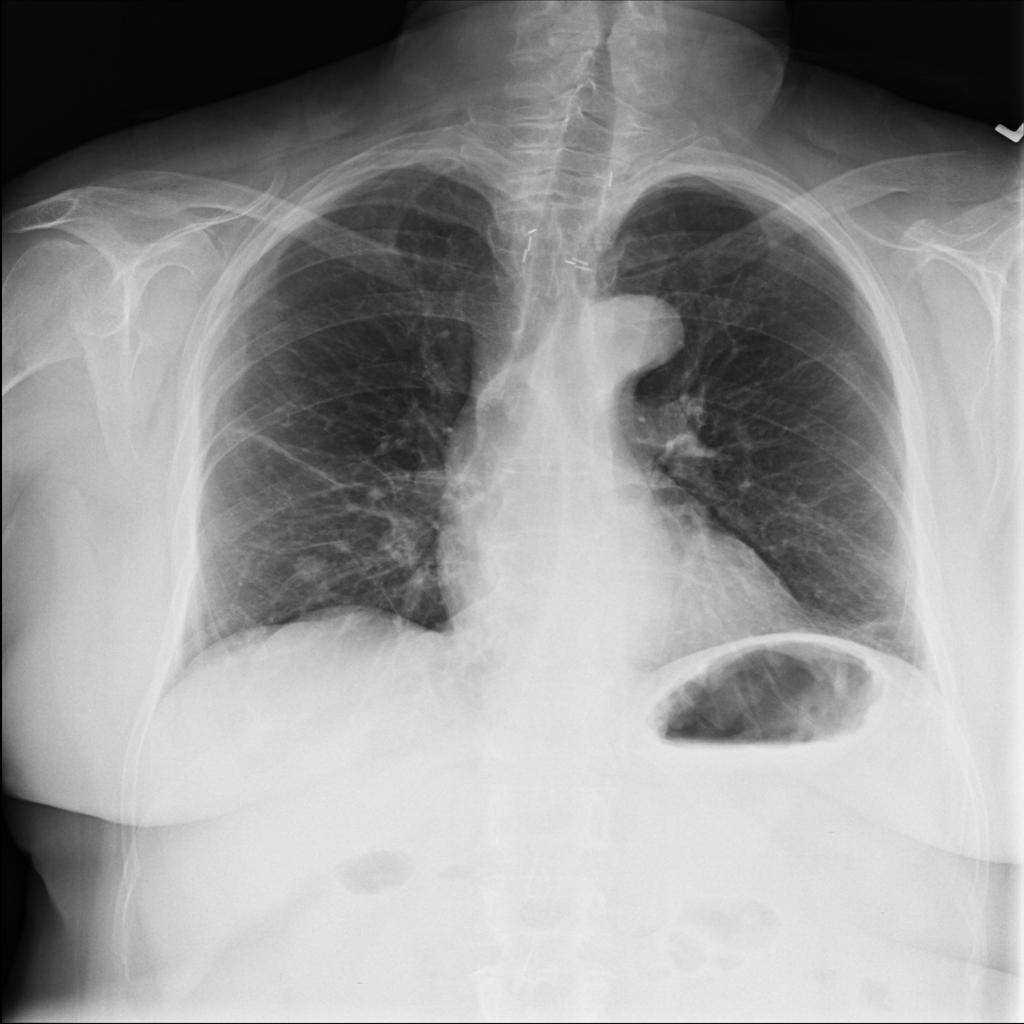nodule: (284, 545, 339, 591)
